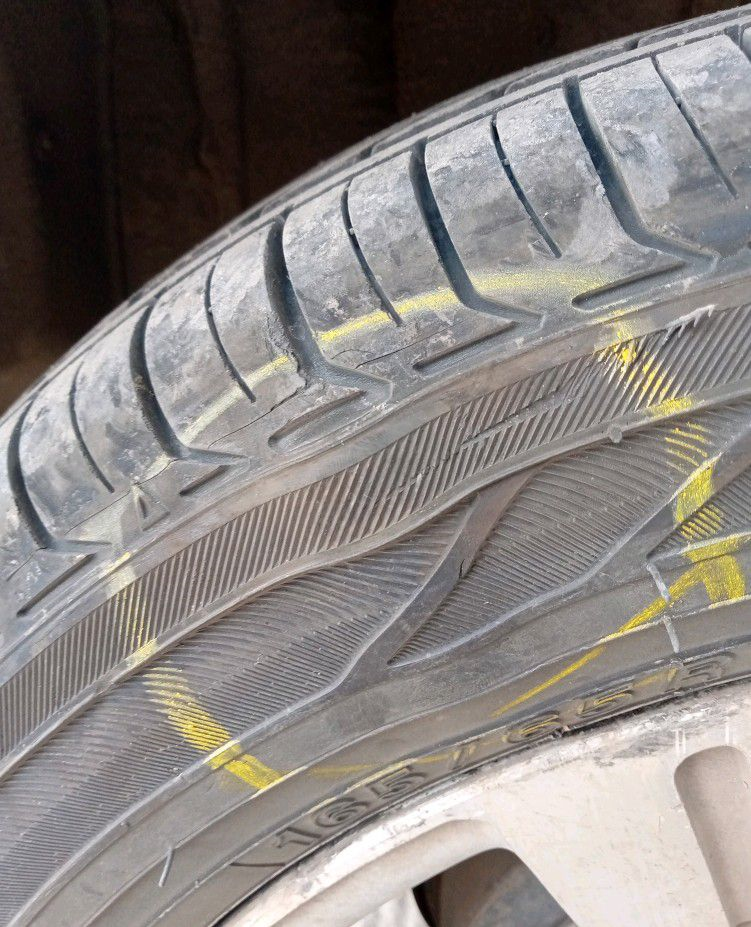CBU: (318, 460, 557, 704)
